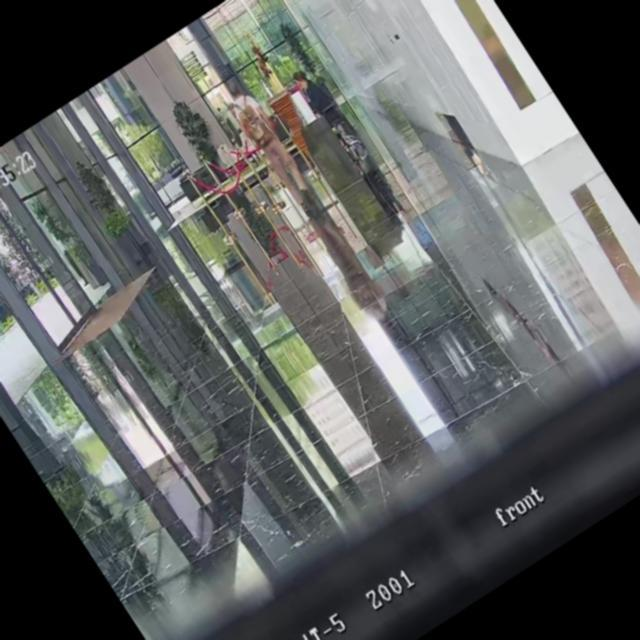person: (215, 74, 325, 220), (289, 63, 344, 131)
